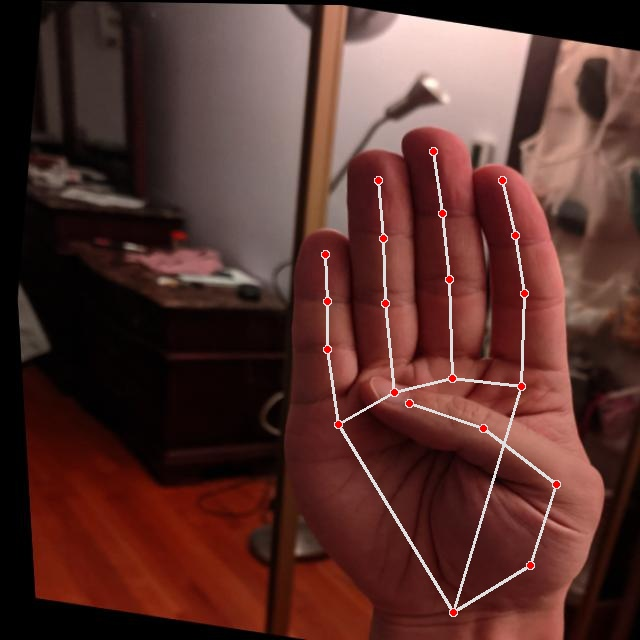B: (225, 98, 639, 639)
